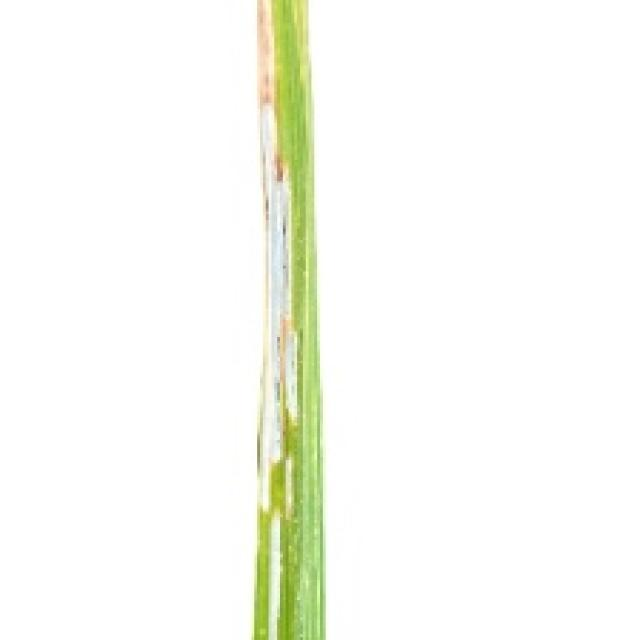Rice___Bacterial_Leaf_Blight: (243, 0, 328, 637)
